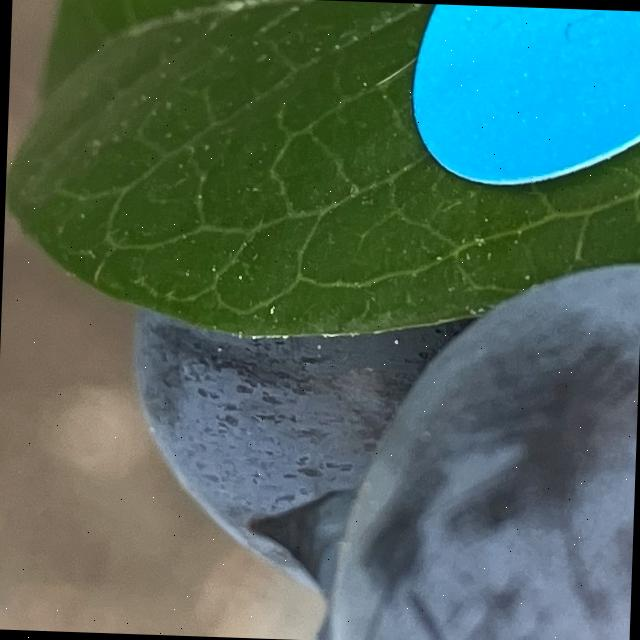Blueberries: (304, 244, 640, 640)
